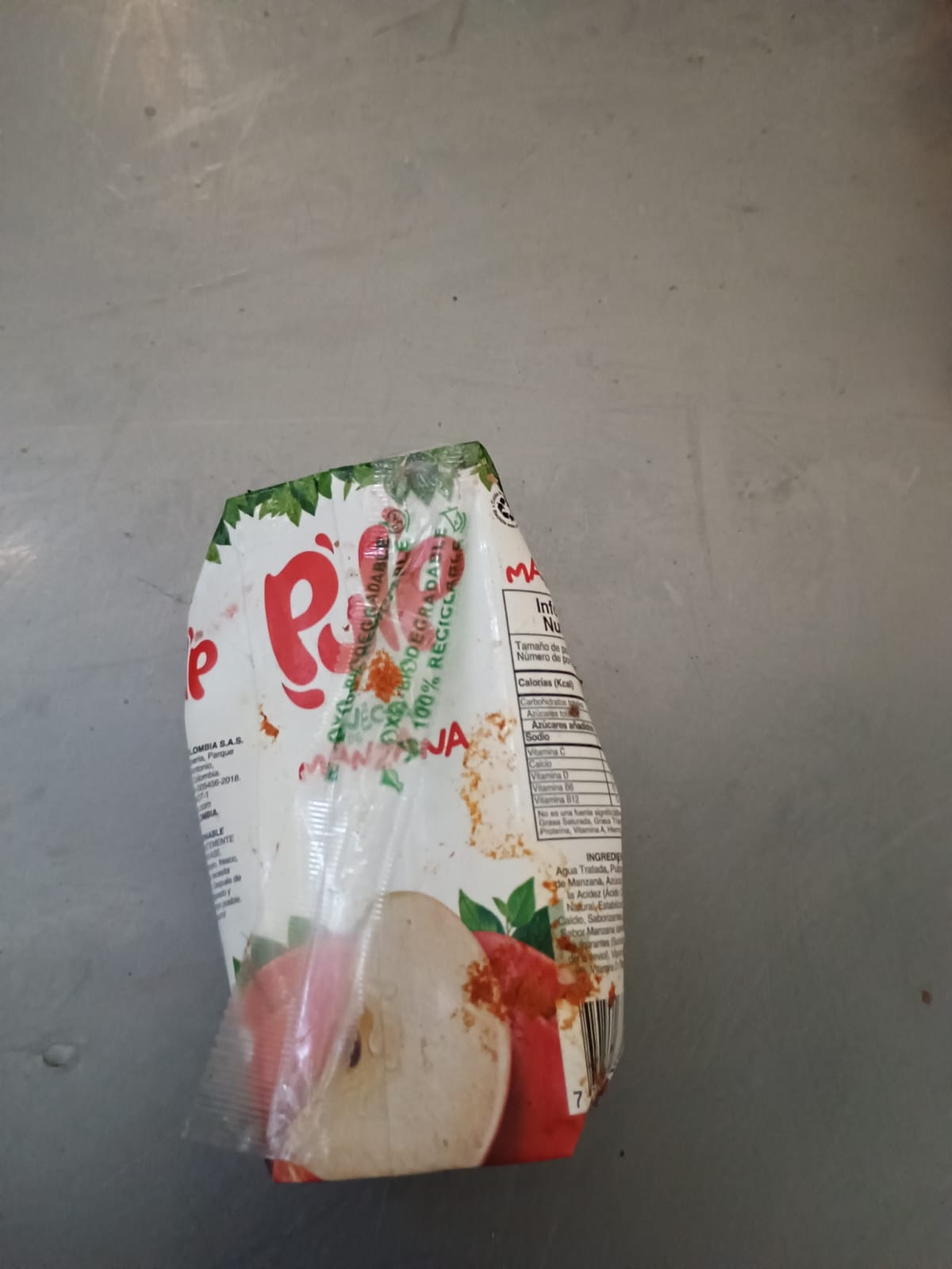Carton: (182, 446, 628, 1181)
